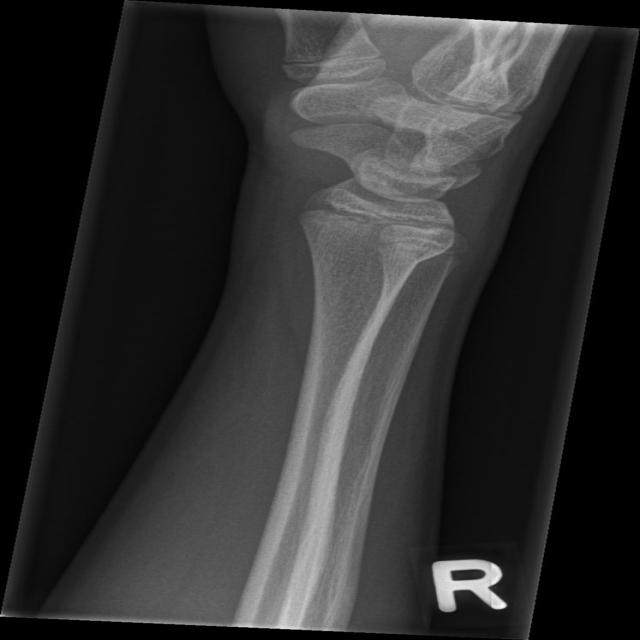fracture: (288, 192, 468, 252)
